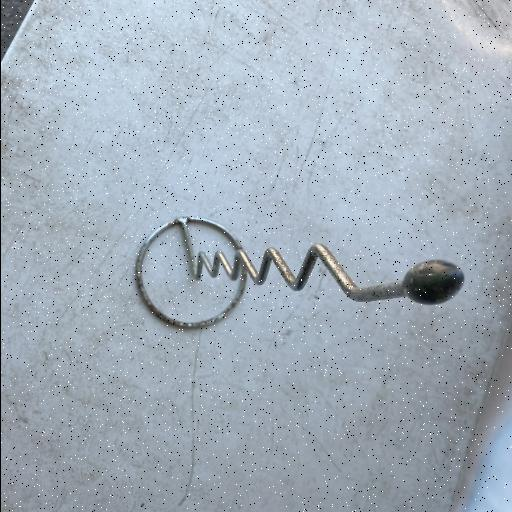Metal: (133, 214, 466, 330)
